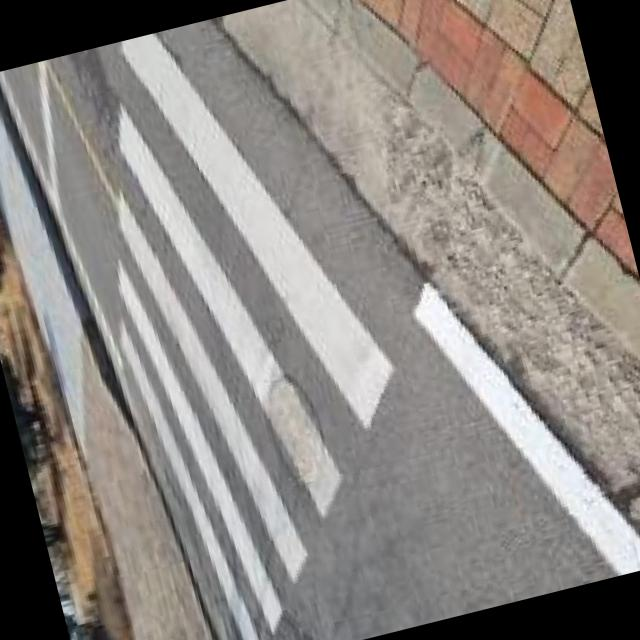zebra: (102, 35, 410, 640)
